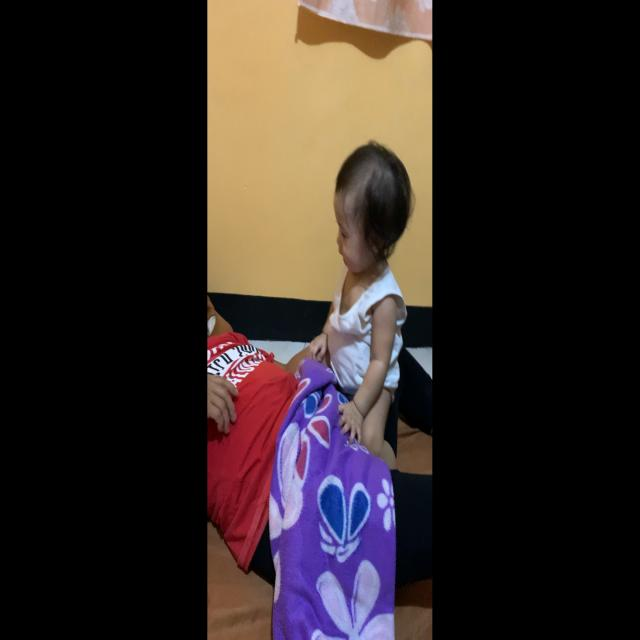child: (308, 139, 417, 472)
